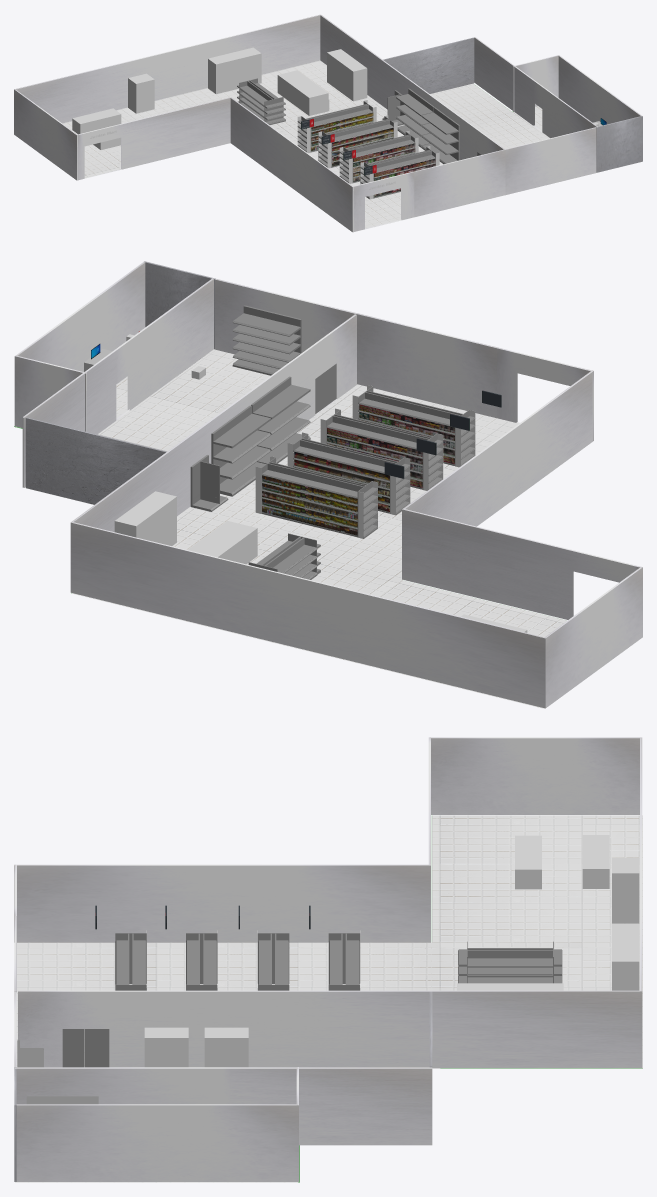
File: SupermarketExport.fbx
The picture shows the model from 3 angles, top to bottom: view 1: azimuth 30°, elevation 25°; view 2: azimuth 150°, elevation 25°; view 3: azimuth 270°, elevation 25°; orthographic projection. The views are drawn at different scales.
Parts seen in each view (by area): view 1: Wall009, Floor, Wall014, Wall011, Wall002, Wall001, Wall005, Wall, Wall008, Wall010, Wall012, Wall003 (+20 smaller); view 2: Wall009, Floor, Wall014, Wall011, Wall002, Wall005, Wall, Wall008, Wall010, Wall012, Wall001, Eggs&Bread Shelf (+19 smaller); view 3: Wall, Floor, Wall011, Wall012, Wall002, Wall010, EggShelf, Dairy Frozen Shelf, Bread Shelf, Fridge, Freezer, Cashier (+10 smaller).
Boxes of the visible parts, x1,y1,x2,y2 form: Wall009: (15,14,320,123); Floor: (62,60,549,231); Wall014: (76,97,231,180); Wall011: (230,97,353,232); Wall002: (474,37,597,138); Wall001: (505,127,596,194); Wall005: (414,149,505,217); Wall: (320,15,504,160); Wall008: (383,37,474,93); Wall010: (14,89,77,180); Wall012: (558,55,641,124); Wall003: (596,116,642,172); Wall009: (70,522,544,708); Floor: (14,349,566,708); Wall014: (402,508,642,619); Wall011: (403,370,592,526); Wall002: (22,278,214,487); Wall005: (356,313,497,418); Wall: (71,314,356,531); Wall008: (25,417,166,504); Wall010: (543,567,642,708); Wall012: (16,262,145,371); Wall001: (215,279,356,354); Eggs&Bread Shelf: (232,305,301,375); Wall: (18,990,641,1068); Floor: (15,815,642,1182); Wall011: (14,864,430,942); Wall012: (16,1104,298,1181); Wall002: (15,1067,432,1145); Wall010: (431,737,642,814); EggShelf: (467,948,552,983); Dairy Frozen Shelf: (612,924,639,990); Bread Shelf: (612,858,639,923); Fridge: (144,1027,188,1067); Freezer: (204,1027,248,1067); Cashier: (582,835,609,888).
Bounding box in the file's own units: 3590 × 352 × 2592.
